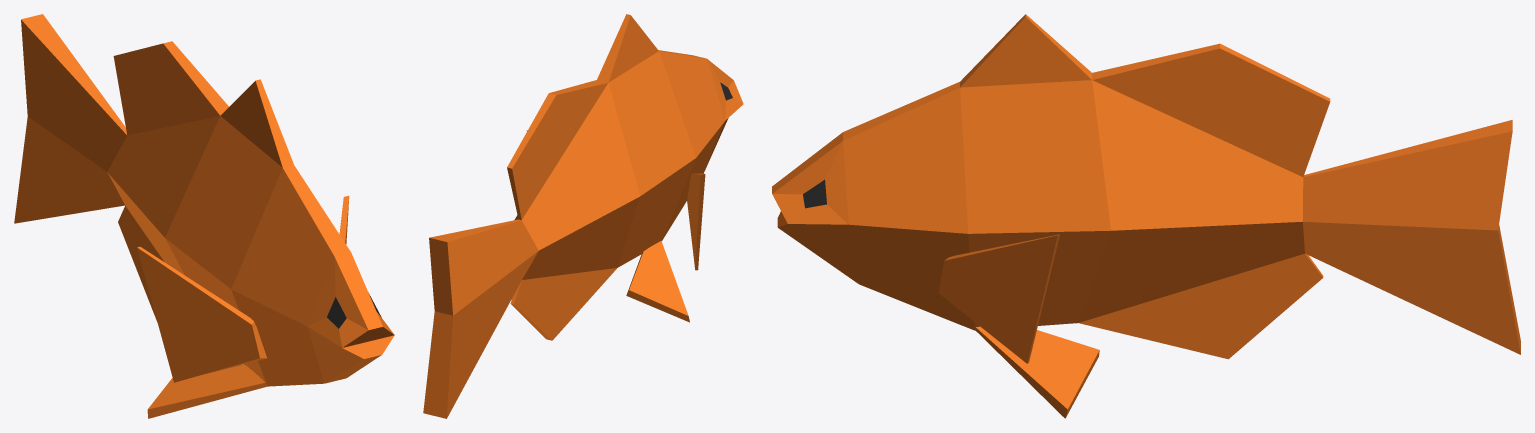
The model's file is fish.glb.
3 views of the same model, side by side, from view 1: azimuth 30°, elevation 25°; view 2: azimuth 150°, elevation 25°; view 3: azimuth 270°, elevation 25° (orthographic). The views are drawn at different scales.
Parts seen in each view (by area): view 1: fish; view 2: fish; view 3: fish.
Part boxes in pixels (bbox=[...]): fish: bbox=[14, 14, 394, 418]; fish: bbox=[423, 14, 743, 418]; fish: bbox=[772, 14, 1520, 418].
Size of the model in its own units: 0.3364 by 0.4999 by 0.9539.
Materials: 1 (1 with a texture image).
